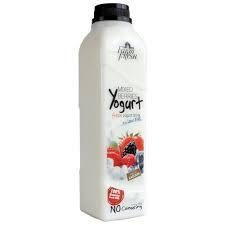bottle: (78, 3, 148, 222)
